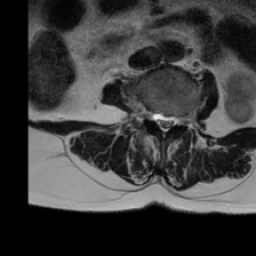CCS_normal: (160, 108, 168, 141)
LFS_normal: (179, 109, 185, 131)
LLS_normal: (168, 109, 177, 131)
RFS_normal: (144, 105, 153, 125)
RLS_normal: (152, 104, 160, 129)
